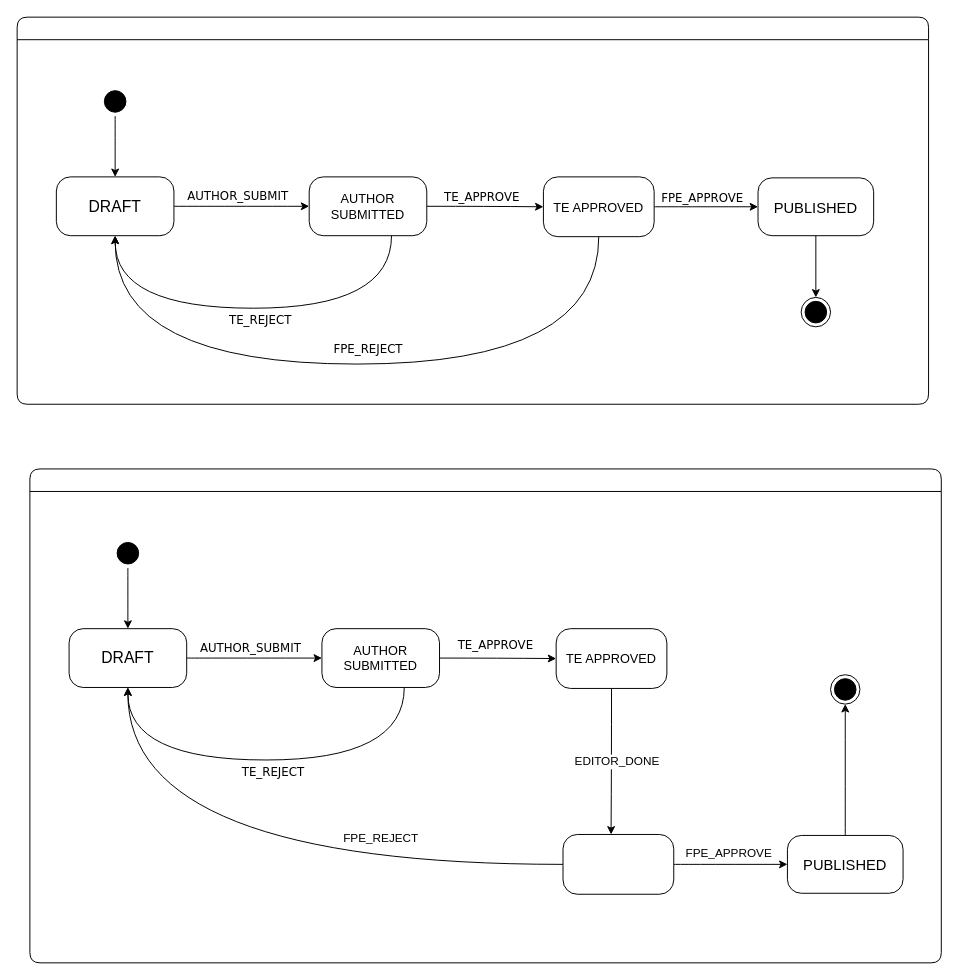
Image size: 958x980. Some labels were removed from this diagram. Here are the shapes that lost their labels. From the top down, the box of each, then its label:
(16, 16, 929, 404): Three Level Review Workflow
(29, 468, 941, 963): Four Level Review Workflow
(562, 833, 674, 894): EDITOR APPROVED
